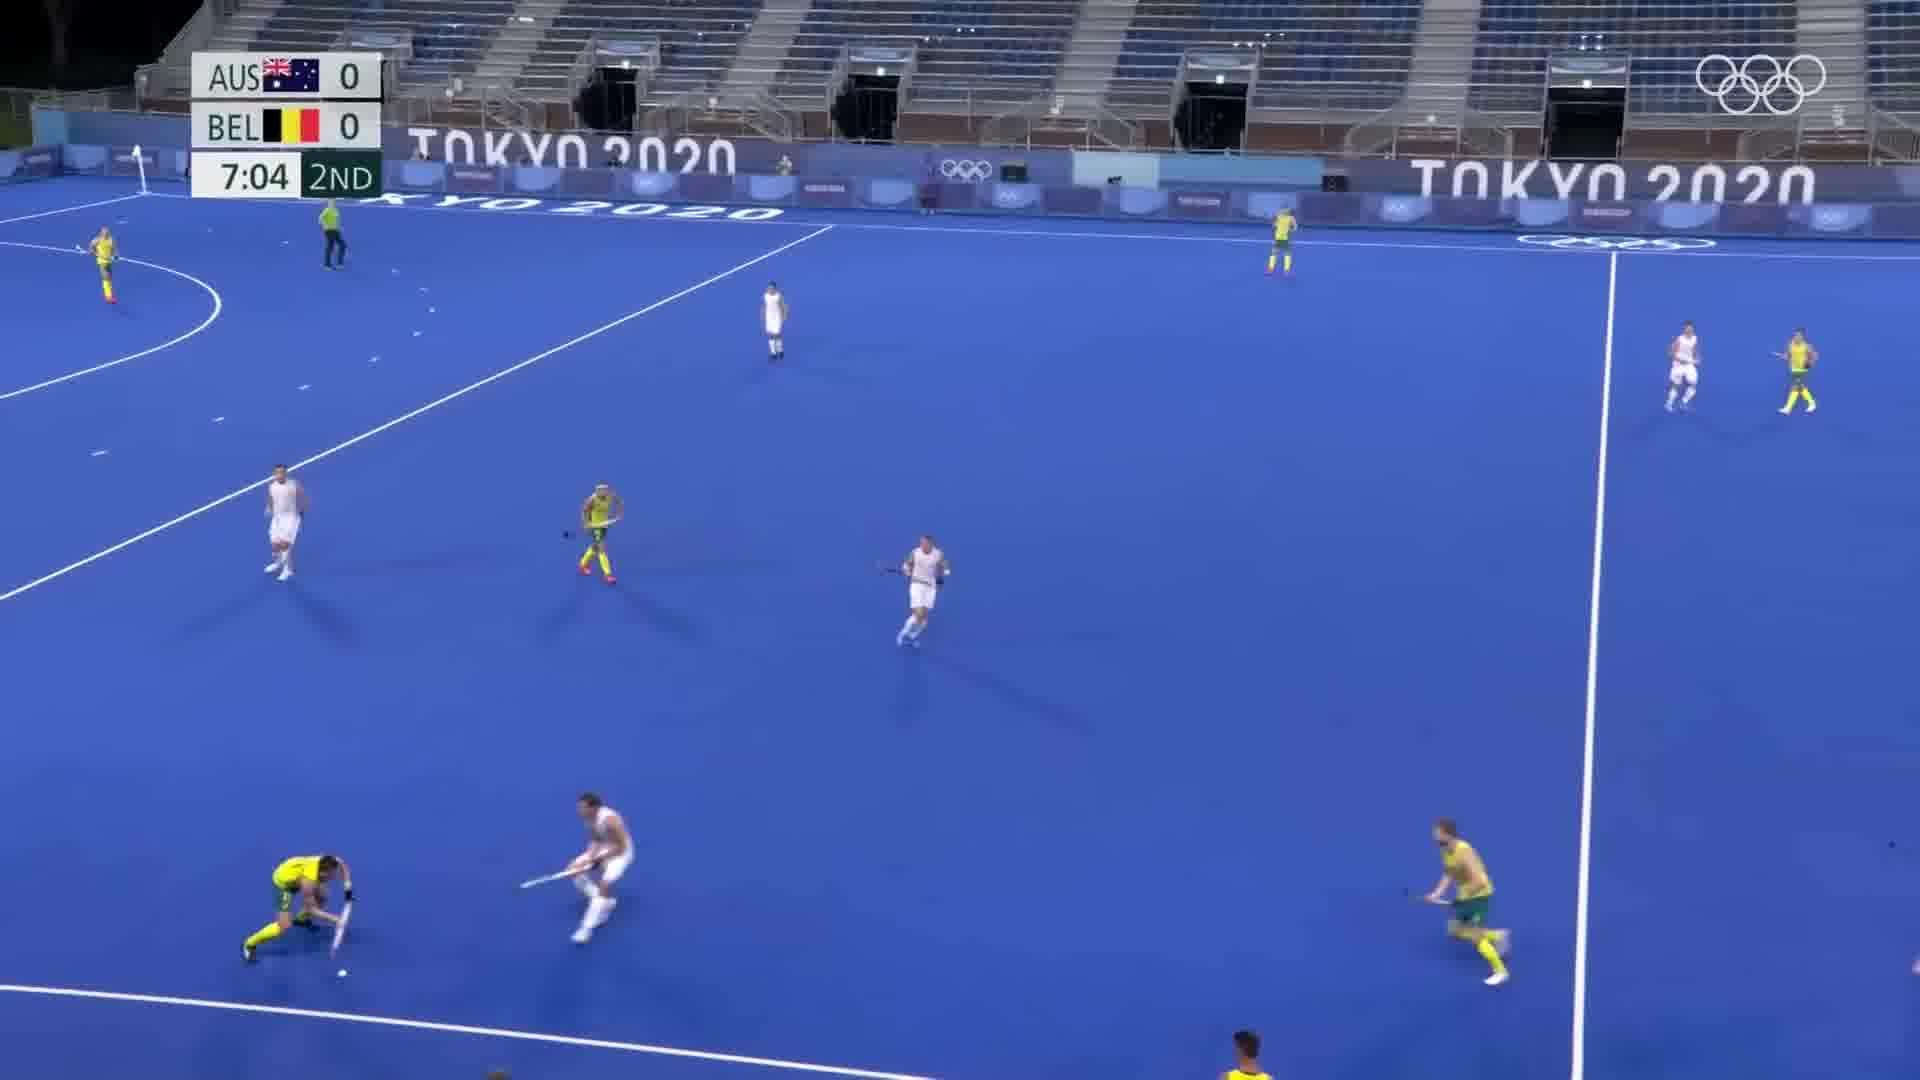ball: (335, 967, 351, 982)
